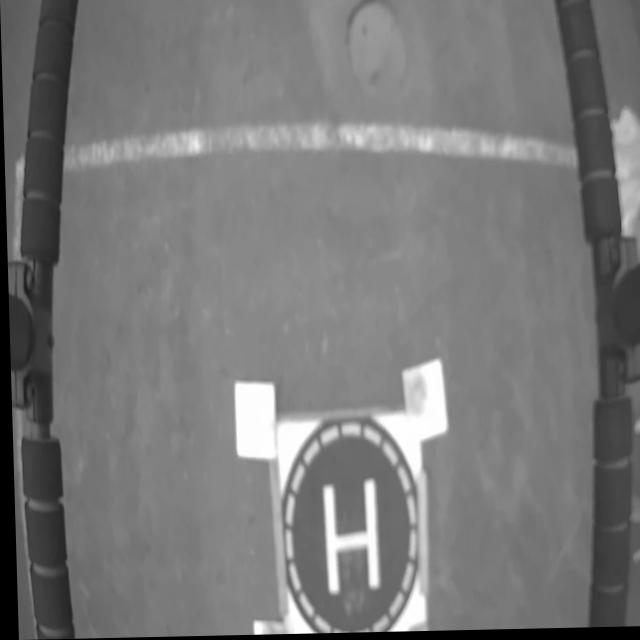Helipad: (320, 480, 376, 596)
